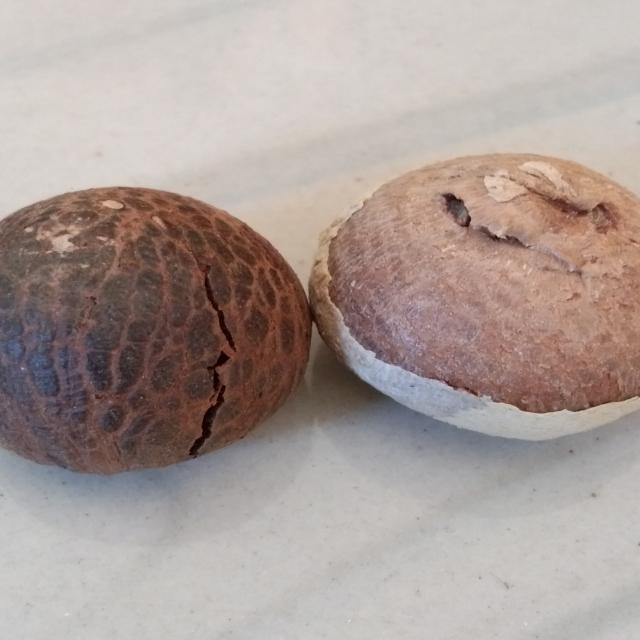karigot: (0, 180, 320, 470)
phatora: (313, 152, 640, 442)
